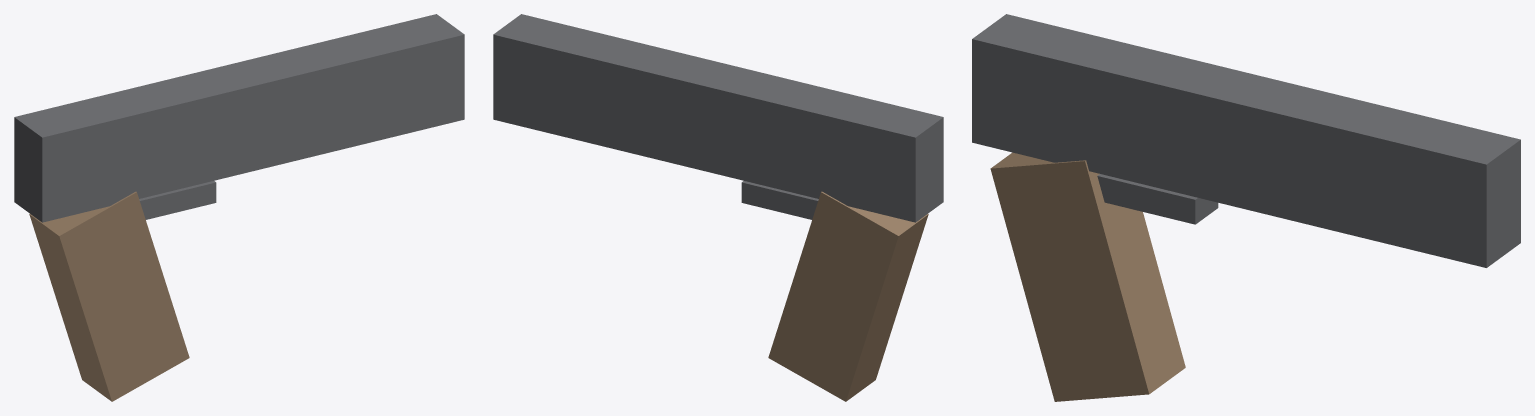
Rendered from held_weapon_aps.glb.
3 renders of one model, left to right at view 1: azimuth 30°, elevation 25°; view 2: azimuth 150°, elevation 25°; view 3: azimuth 330°, elevation 25°, orthographic. The views are drawn at different scales.
Parts seen in each view (by area): view 1: held_weapon_aps; view 2: held_weapon_aps; view 3: held_weapon_aps.
Part boxes in pixels (x1,y1,x2,y2): held_weapon_aps: (14,14,464,401); held_weapon_aps: (493,14,943,401); held_weapon_aps: (972,14,1520,401).
Bounding box in the file's own units: 0.26 × 0.1649 × 0.032.
